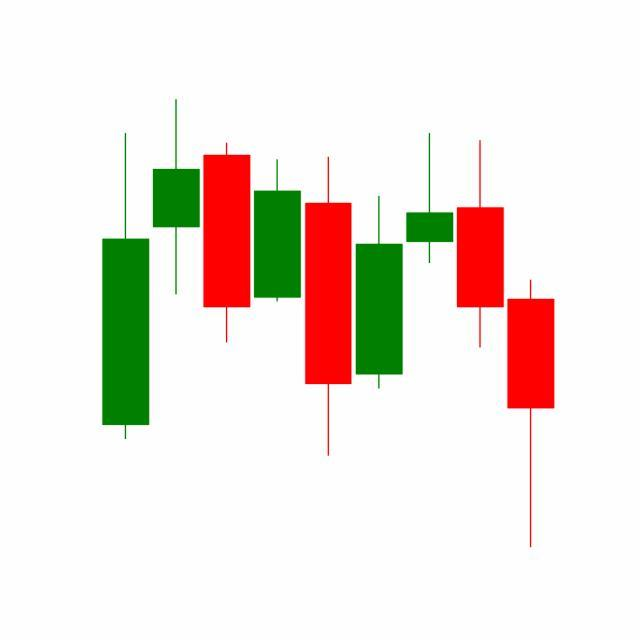Hikkake Pattern: (302, 129, 555, 549)
